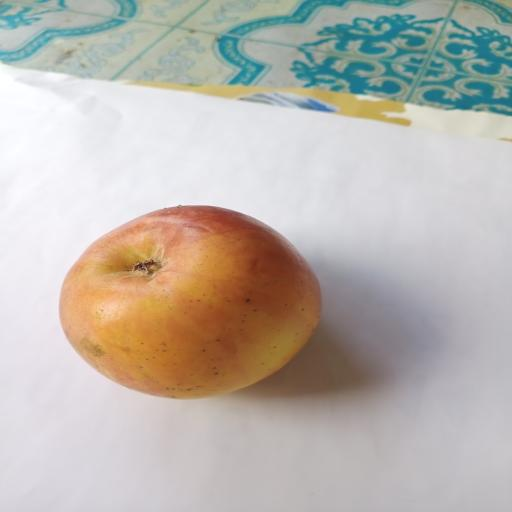apple-ripe: (46, 200, 338, 416)
